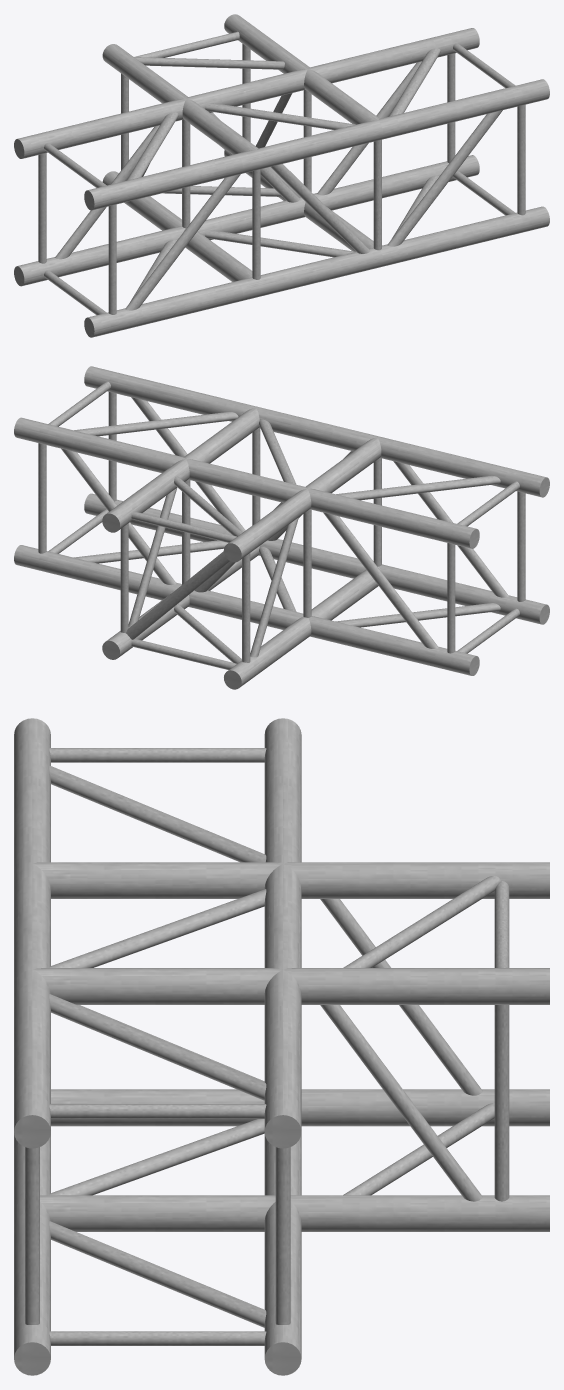
The model's file is Milos_mr2_10X8_T_corner-4fde6afc.glb.
The picture shows the model from 3 angles, top to bottom: view 1: azimuth 30°, elevation 25°; view 2: azimuth 150°, elevation 25°; view 3: azimuth 270°, elevation 25°; orthographic projection. The views are drawn at different scales.
Parts seen in each view (by area): view 1: Geom3D (×36); view 2: Geom3D (×39); view 3: Geom3D (×24).
Part boxes in pixels (bbox=[...]): Geom3D (×36): bbox=[14, 14, 549, 337]; Geom3D (×39): bbox=[14, 366, 549, 689]; Geom3D (×24): bbox=[14, 718, 549, 1375].
Bounding box in the file's own units: 1.27 × 0.389 × 0.725.
1 material, 1 textured.
